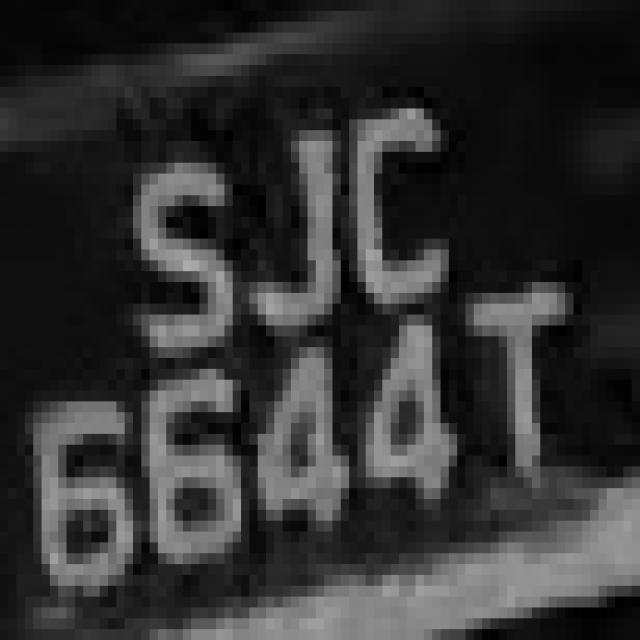4: (332, 282, 466, 532), (233, 314, 349, 586)
6: (17, 358, 150, 618), (125, 369, 258, 607)
C: (324, 86, 466, 314)
J: (208, 108, 349, 336)
S: (116, 130, 250, 380)
T: (441, 249, 565, 510)
